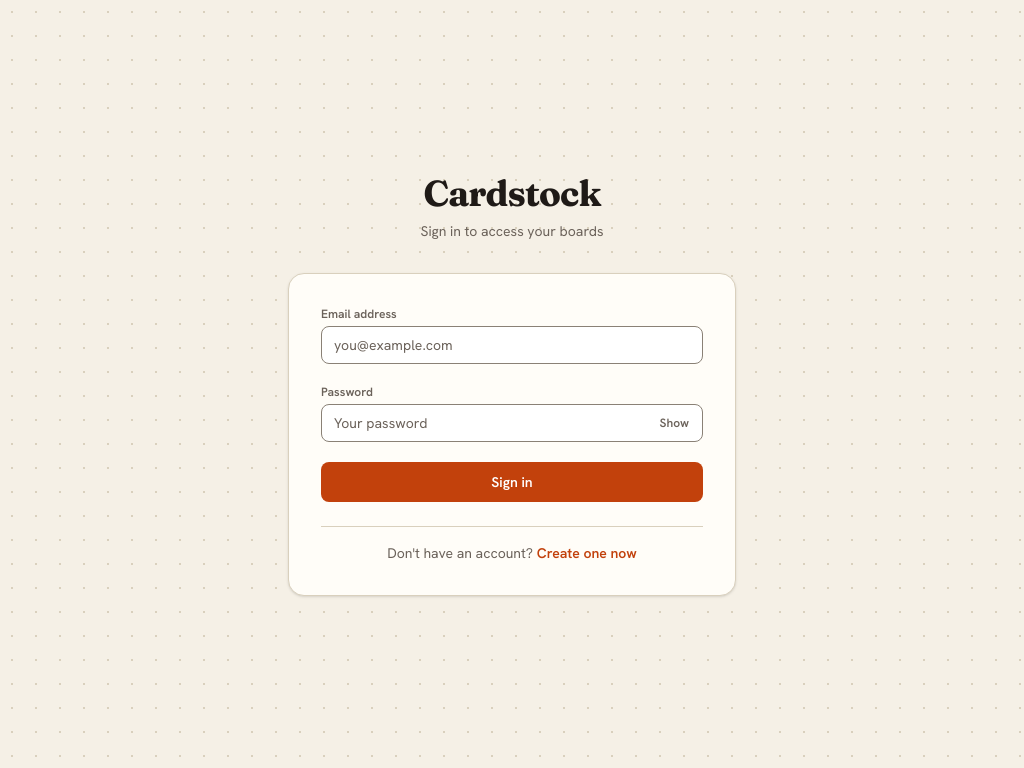
Test: AuthPage › Form Validation › validates empty email and password on login
Step 1. Click the button "Sign in" → point(512, 482), box [321,462,703,502]
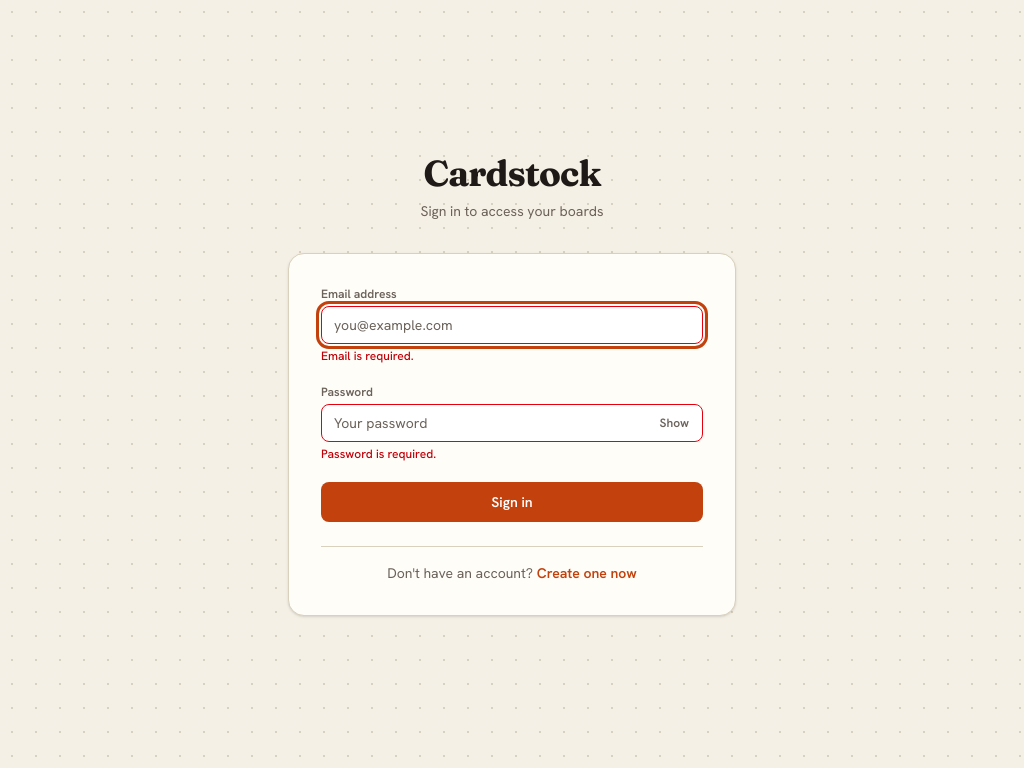
Check: the text "Email is required." is shown, box [321,348,414,364]
